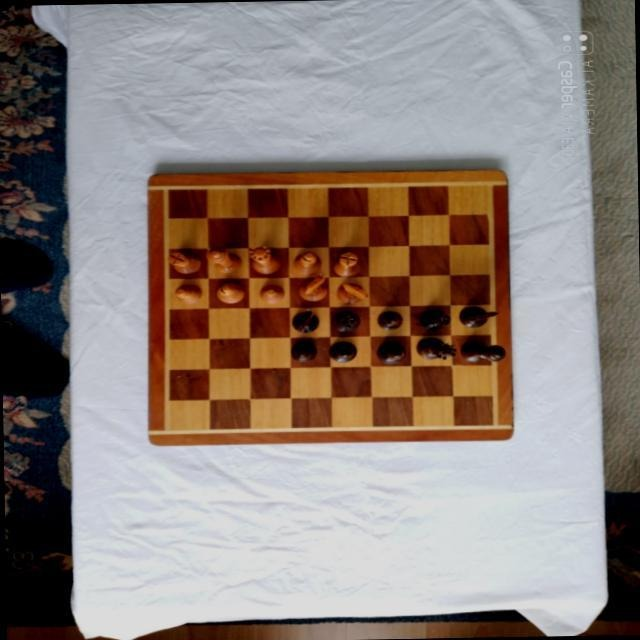black-bishop: (375, 341, 405, 364), (328, 342, 356, 362)
black-king: (459, 339, 505, 362)
black-knight: (457, 304, 498, 327), (290, 310, 318, 333)
black-pawn: (289, 342, 315, 362), (376, 310, 401, 330)
black-queen: (416, 336, 456, 360)
black-rook: (418, 308, 450, 331), (331, 311, 358, 332)
white-bishop: (292, 251, 320, 273), (215, 281, 243, 302)
white-king: (204, 246, 240, 274)
white-knight: (298, 273, 326, 301), (336, 281, 368, 304)
white-pawn: (173, 285, 201, 303), (260, 285, 284, 303)
white-queen: (248, 243, 280, 274)
white-rook: (168, 250, 200, 274), (332, 252, 360, 276)
